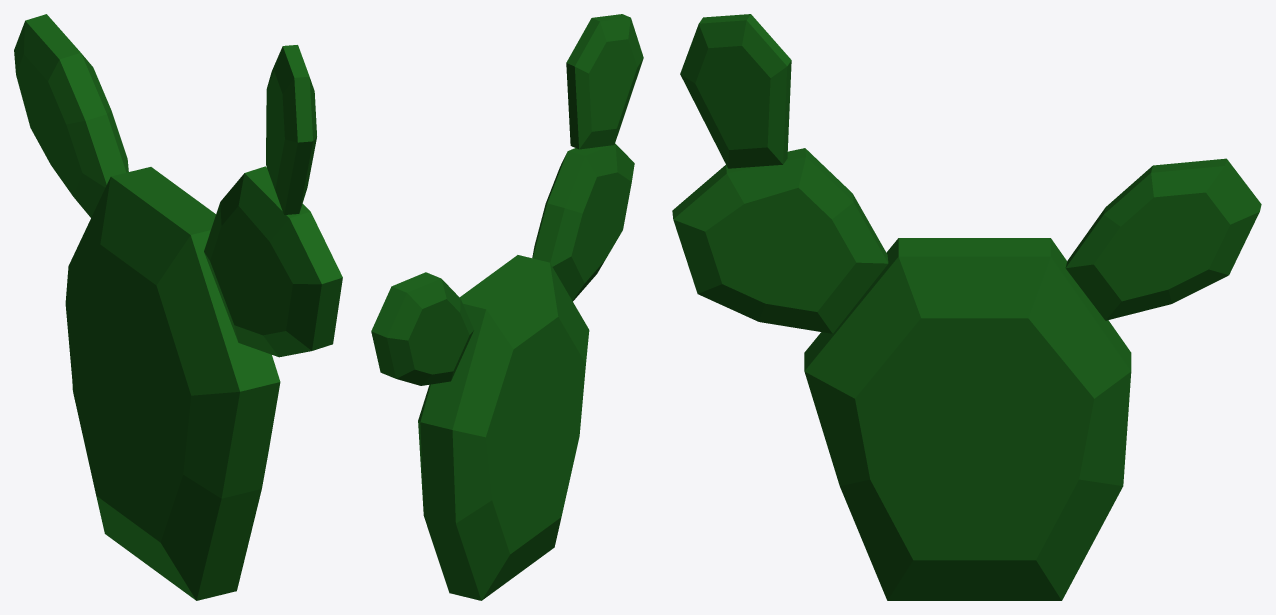
The model's file is cactus-1.glb.
3 renders of one model, left to right at view 1: azimuth 30°, elevation 25°; view 2: azimuth 150°, elevation 25°; view 3: azimuth 270°, elevation 25°, orthographic. The views are drawn at different scales.
Parts seen in each view (by area): view 1: Cube, Cube.002, Cube.001, Cube.004; view 2: Cube, Cube.002, Cube.001, Cube.004; view 3: Cube, Cube.002, Cube.001, Cube.004.
Boxes of the visible parts, <box> form: Cube: <box>65,167,280,600</box>; Cube.002: <box>204,166,342,357</box>; Cube.001: <box>14,14,128,217</box>; Cube.004: <box>266,45,316,214</box>; Cube: <box>418,255,589,600</box>; Cube.002: <box>532,143,634,301</box>; Cube.001: <box>371,272,473,385</box>; Cube.004: <box>566,14,643,149</box>; Cube: <box>804,238,1131,600</box>; Cube.002: <box>672,148,888,333</box>; Cube.001: <box>1065,158,1261,320</box>; Cube.004: <box>680,14,791,168</box>.
Size of the model in its own units: 0.246 by 1.67 by 1.55.
